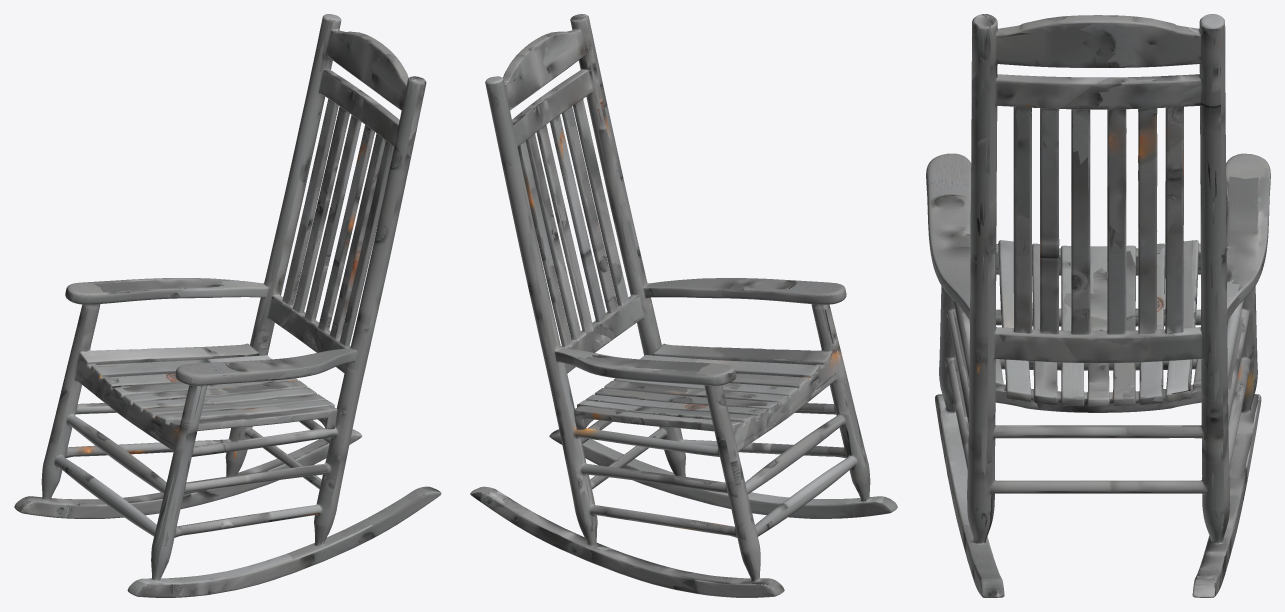
Rendered from chaise -conjuring.glb.
3 renders of one model, left to right at view 1: azimuth 30°, elevation 25°; view 2: azimuth 150°, elevation 25°; view 3: azimuth 270°, elevation 25°, orthographic. The views are drawn at different scales.
Parts seen in each view (by area): view 1: node_0; view 2: node_0; view 3: node_0.
Part boxes in pixels (left/top/right/bottom): node_0: left=14, top=14, right=441, bottom=597; node_0: left=470, top=14, right=897, bottom=597; node_0: left=926, top=14, right=1270, bottom=597.
Bounding box in the file's own units: 0.7138 × 0.9633 × 0.4888.
1 material, 1 textured.
